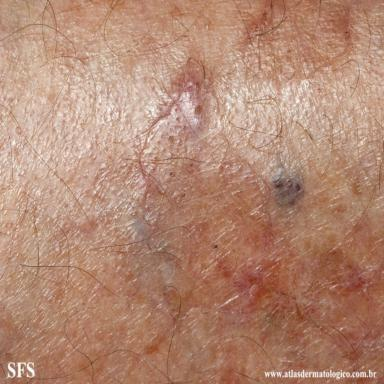Porokeratosis: (134, 61, 380, 315), (243, 0, 354, 84)
